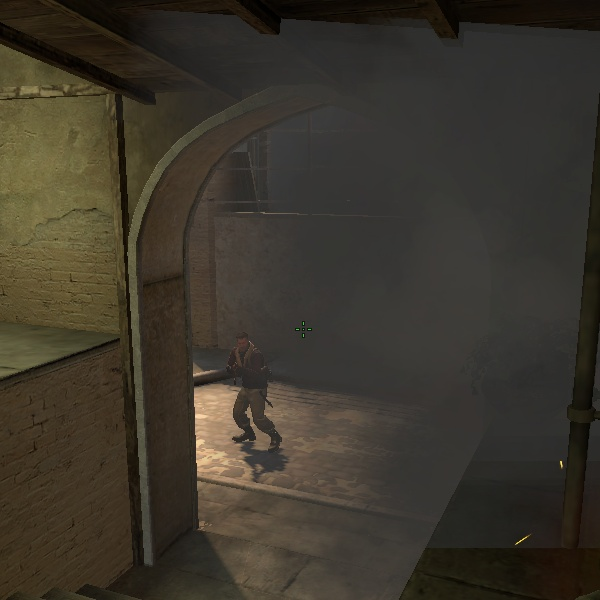t_body: (209, 332, 282, 460)
t_head: (228, 333, 259, 364)
